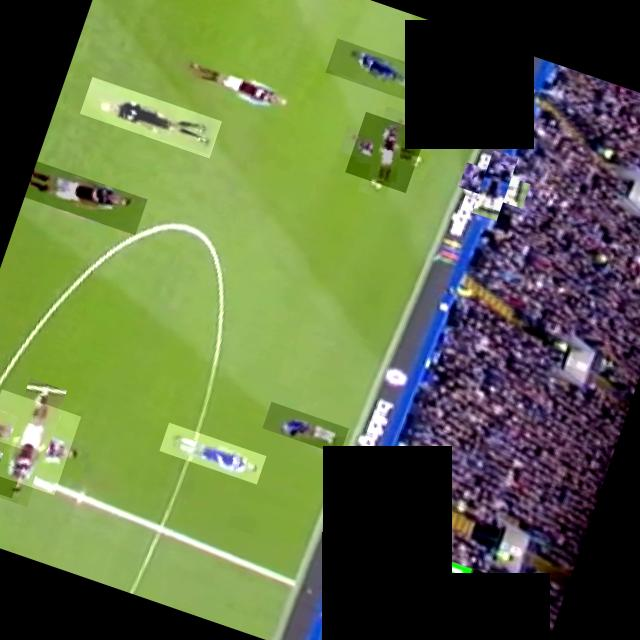referee: (80, 76, 222, 157), (464, 155, 524, 214)
soccer-player: (173, 46, 305, 122), (24, 160, 148, 234), (0, 388, 80, 494), (326, 37, 428, 103), (345, 110, 426, 192), (159, 421, 266, 483), (262, 401, 349, 454), (0, 422, 28, 497)
